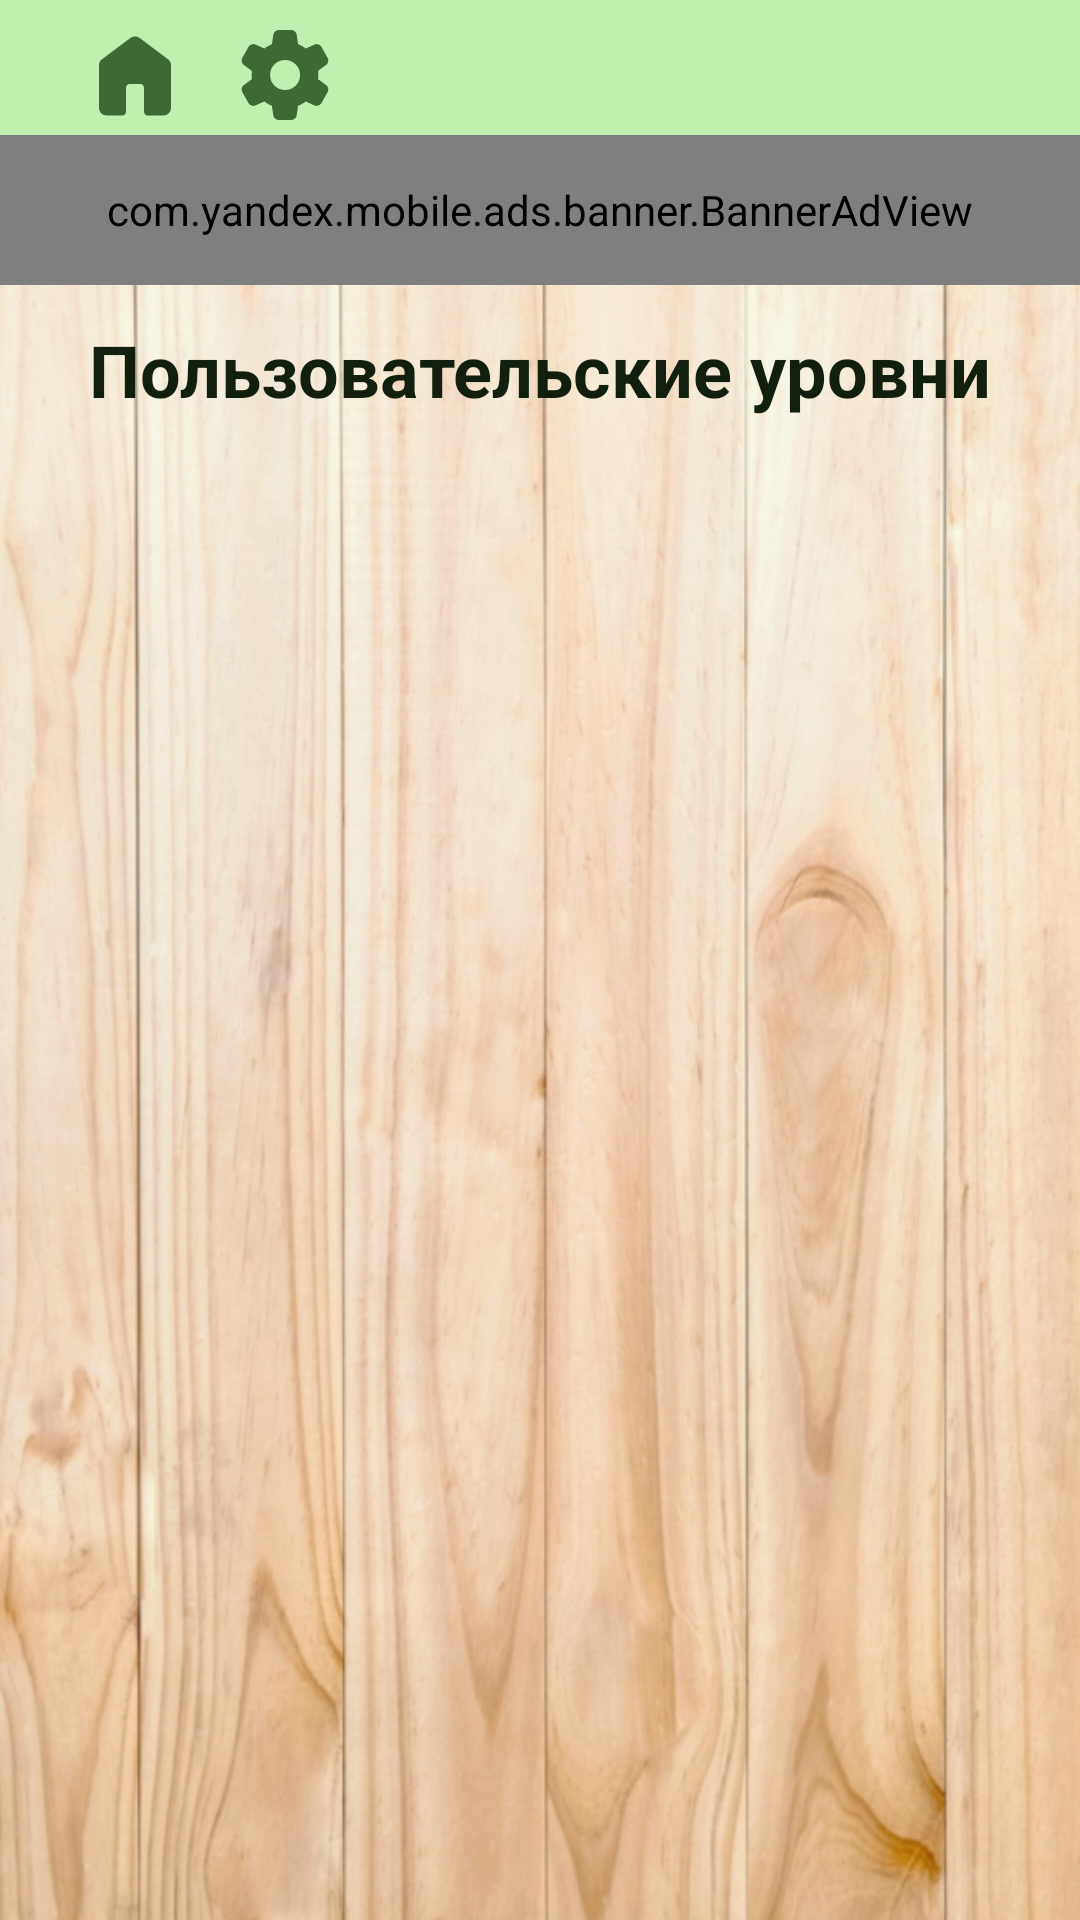

Point at icon controls on the screen. Image size 1080×1920, points as [x,y].
home: [135,76]
settings: [285,75]
